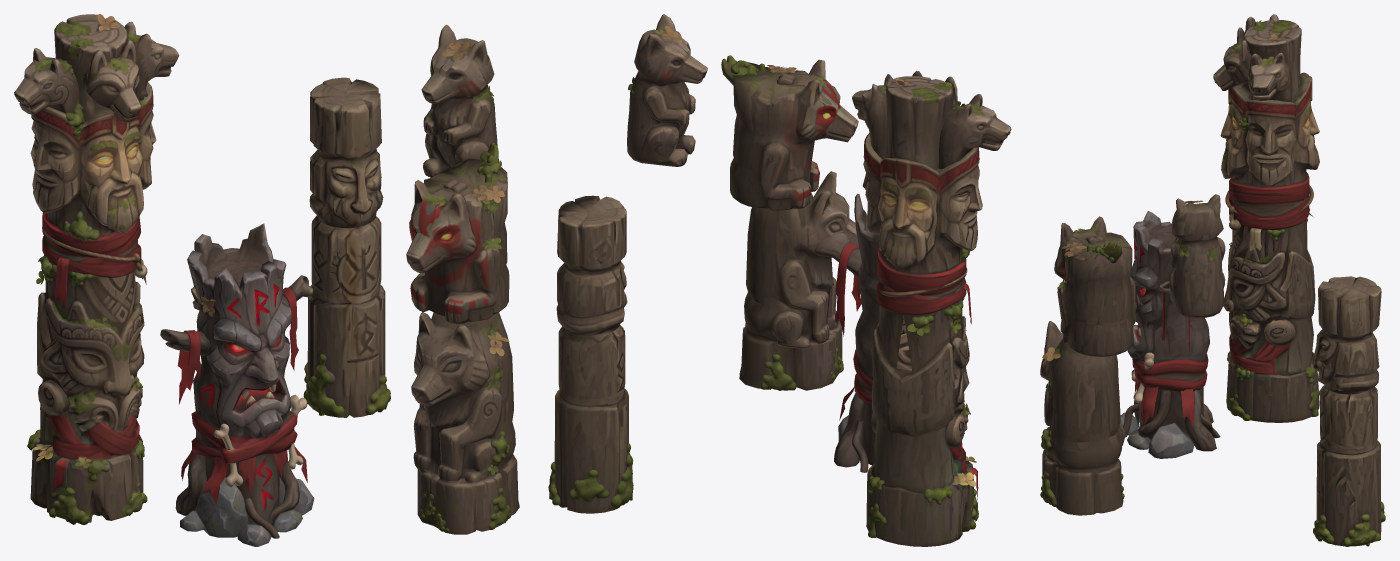
File: totem.glb
3 renders of one model, left to right at view 1: azimuth 30°, elevation 25°; view 2: azimuth 150°, elevation 25°; view 3: azimuth 270°, elevation 25°, orthographic. The views are drawn at different scales.
Visible parts, largest first — view 1: totem_0, totem_2, totem_1, totem_3; view 2: totem_0, totem_2, totem_3, totem_1; view 3: totem_0, totem_2, totem_3, totem_1.
Boxes of the visible parts, x1=… form: totem_0: x1=14, y1=14, x2=179, y2=524; totem_2: x1=406, y1=24, x2=519, y2=534; totem_1: x1=160, y1=223, x2=314, y2=546; totem_3: x1=303, y1=77, x2=390, y2=417; totem_0: x1=852, y1=70, x2=1011, y2=546; totem_2: x1=627, y1=14, x2=858, y2=390; totem_3: x1=548, y1=77, x2=634, y2=513; totem_1: x1=815, y1=193, x2=879, y2=472; totem_0: x1=1213, y1=14, x2=1319, y2=422; totem_2: x1=1040, y1=194, x2=1225, y2=515; totem_3: x1=1206, y1=250, x2=1385, y2=546; totem_1: x1=1120, y1=211, x2=1220, y2=458.
Bounding box in the file's own units: 0.9468 × 0.9995 × 0.8032.
Materials: 1 (1 with a texture image).
